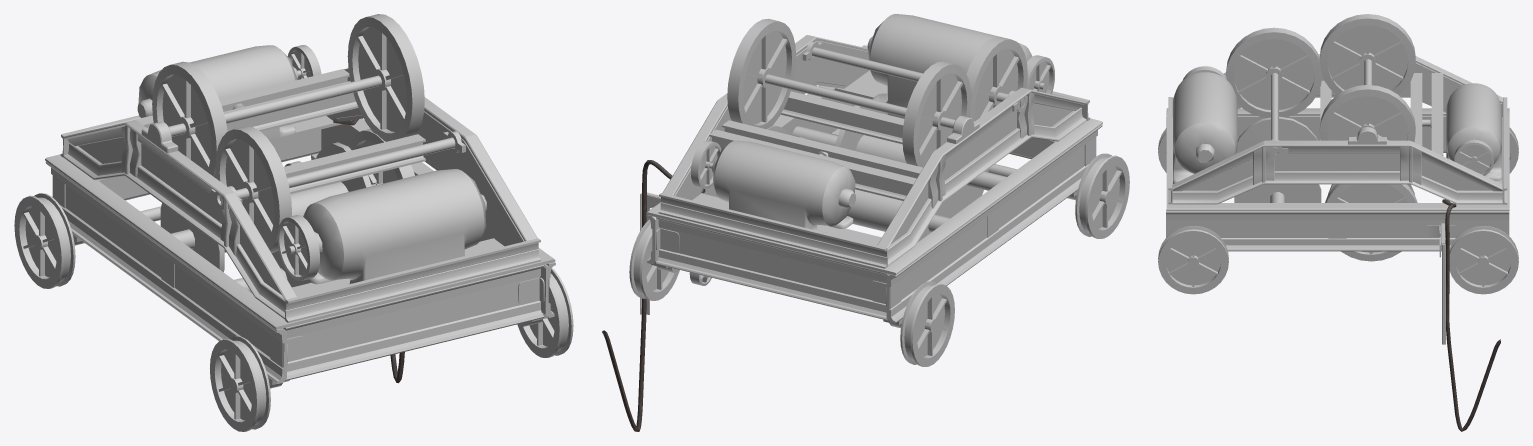
The model's file is sm_CraneCarriage_OneMesh_01_01.fbx.
3 views of the same model, side by side, from view 1: azimuth 30°, elevation 25°; view 2: azimuth 150°, elevation 25°; view 3: azimuth 270°, elevation 25° (orthographic). The views are drawn at different scales.
Visible parts, largest first — view 1: sm_CraneCarriage_OneMesh_01_01_LOD0; view 2: sm_CraneCarriage_OneMesh_01_01_LOD0; view 3: sm_CraneCarriage_OneMesh_01_01_LOD0.
Part boxes in pixels (box(x1,y1,x2,y2)): sm_CraneCarriage_OneMesh_01_01_LOD0: box(14, 14, 573, 431); sm_CraneCarriage_OneMesh_01_01_LOD0: box(602, 14, 1129, 431); sm_CraneCarriage_OneMesh_01_01_LOD0: box(1158, 14, 1518, 431).
Size of the model in its own units: 136 by 159 by 155.
